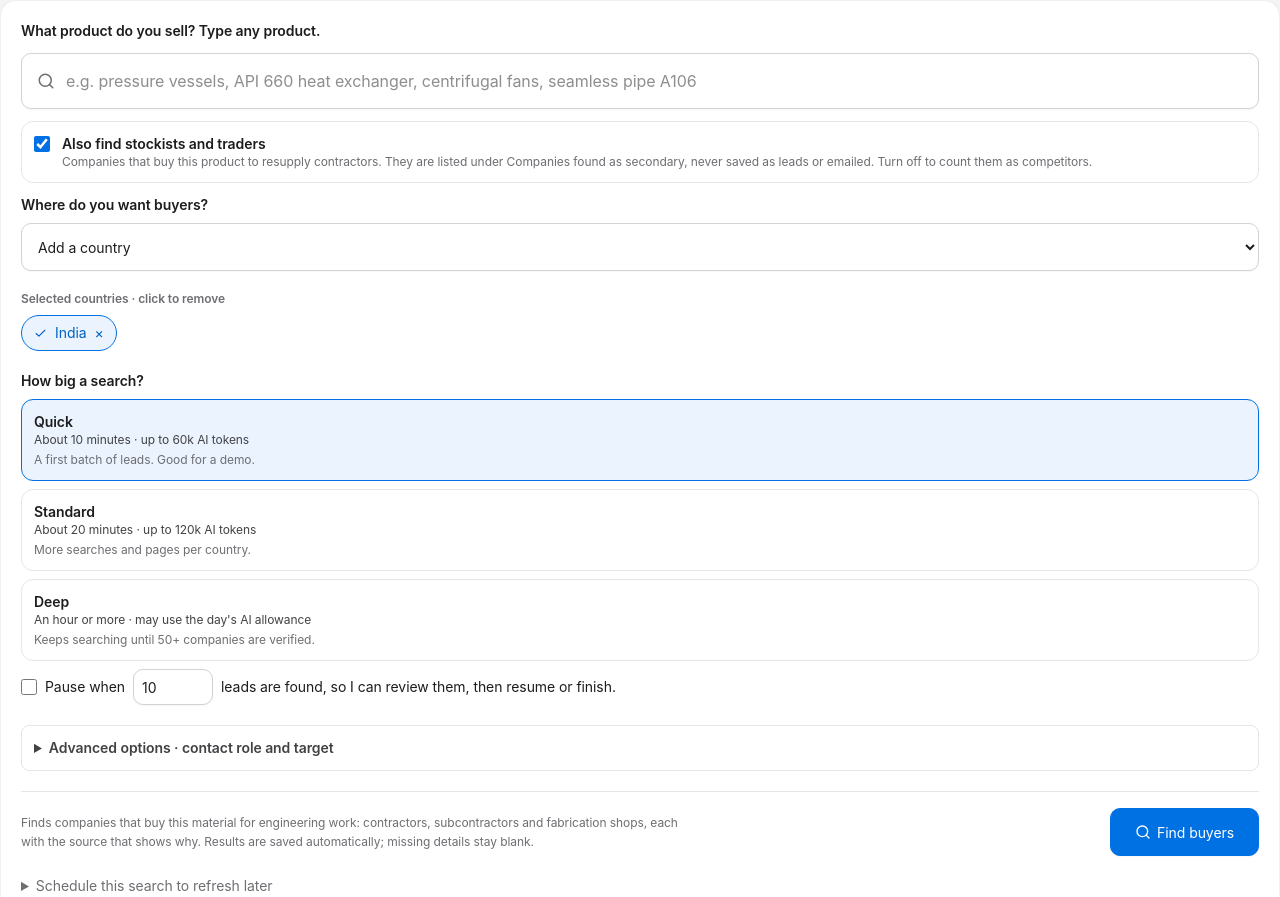
Test: bounded material research form › sends research mode and target without requiring contact details
This screenshot has width=1280, height=897.
Replace the text in the search field labelled "What product do you sell? Type any product." with "cables": (640, 81) x1=21 y1=53 x2=1259 y2=109
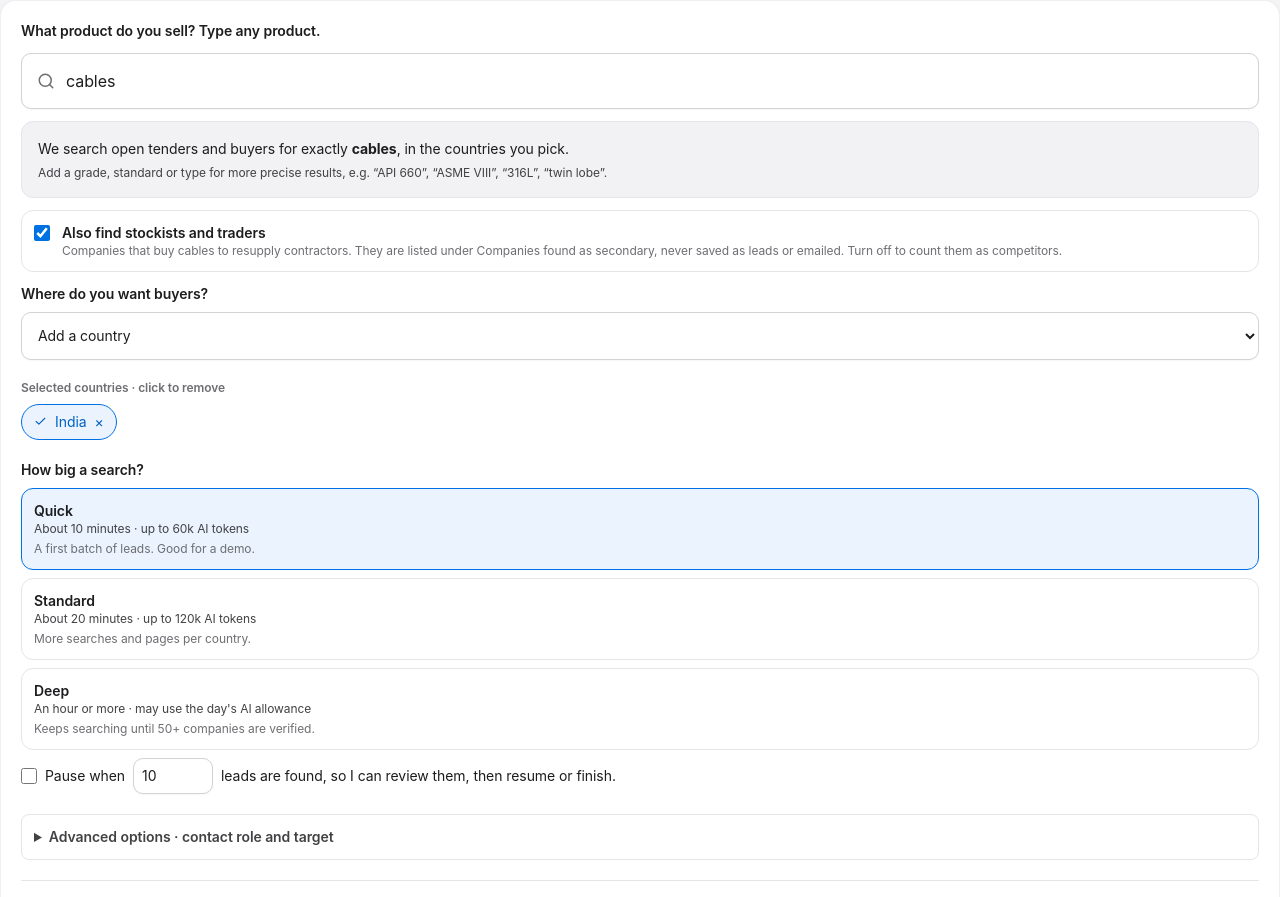
Click the radio button labelled "Deep": (52, 690) x1=21 y1=668 x2=1259 y2=750
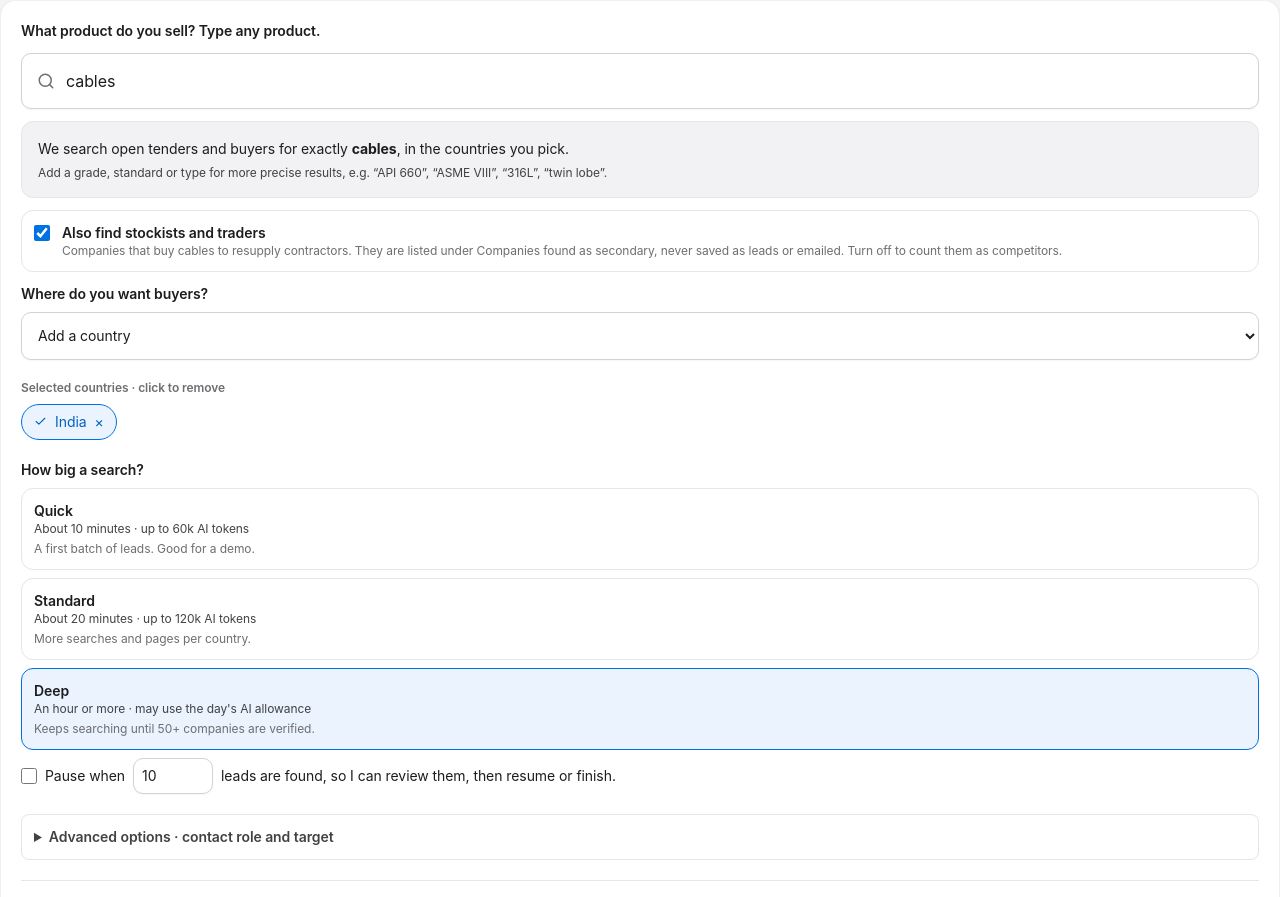
Replace the text in the number field named "Target companies" with "70": (640, 837) x1=21 y1=814 x2=1259 y2=860
(page scrolled)
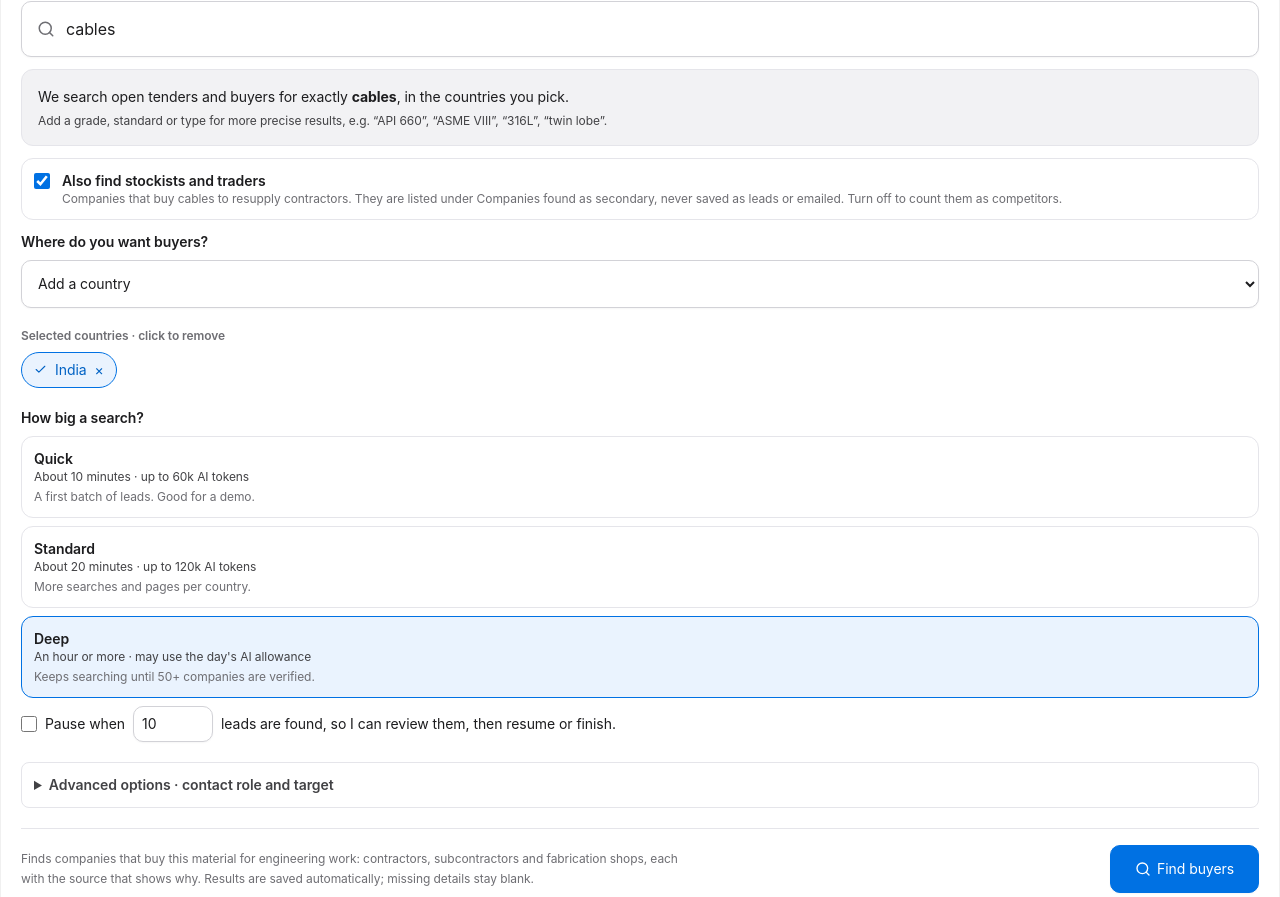
Submit the form named "Search for opportunities"
(page scrolled)
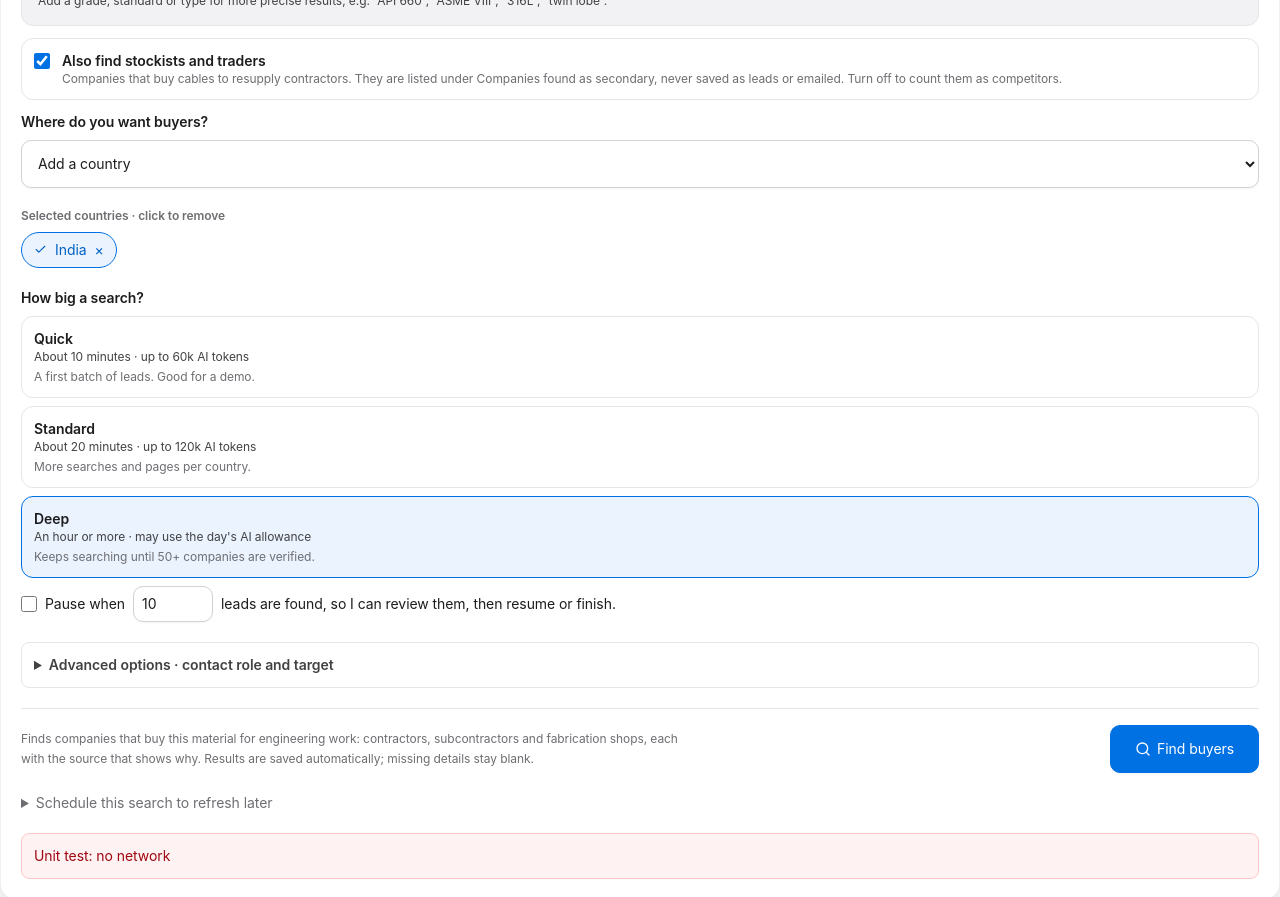
Check: the message "Unit test: no network" is shown, box x1=21 y1=833 x2=1259 y2=879
